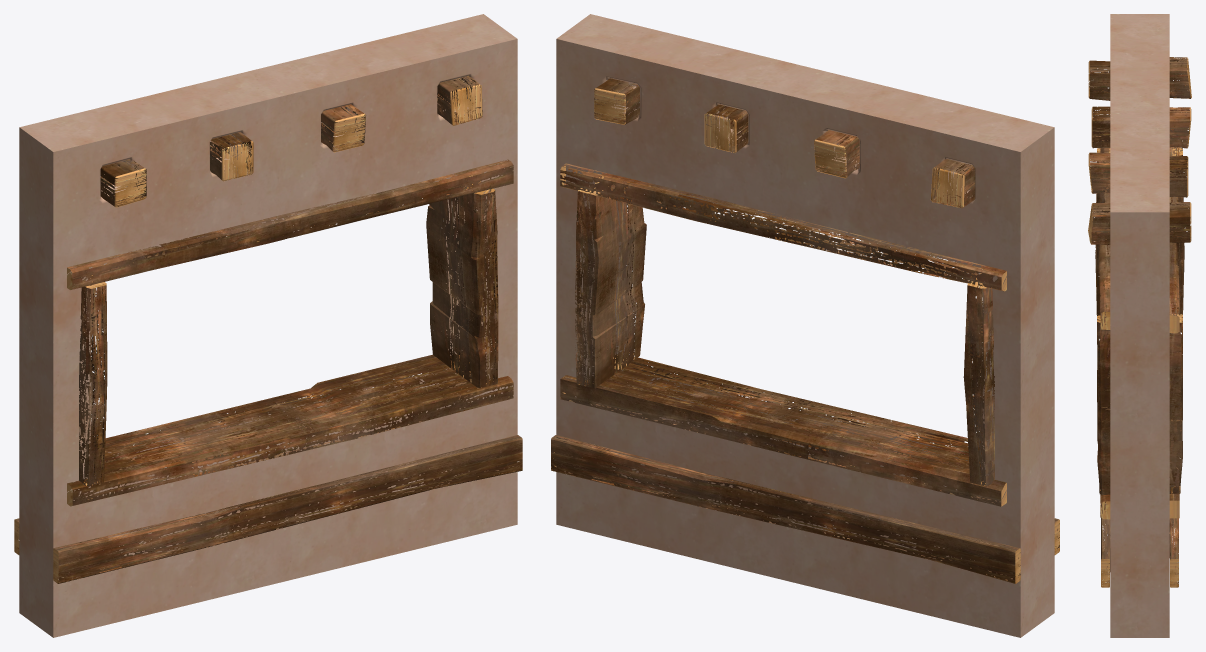
3 views of the same model, side by side, from view 1: azimuth 30°, elevation 25°; view 2: azimuth 150°, elevation 25°; view 3: azimuth 270°, elevation 25° (orthographic). The views are drawn at different scales.
Visible parts, largest first — view 1: SM_BB_T4_Wall_Windowframe_Double_LOD0; view 2: SM_BB_T4_Wall_Windowframe_Double_LOD0; view 3: SM_BB_T4_Wall_Windowframe_Double_LOD0.
Part boxes in pixels (x1,y1,x2,y2): SM_BB_T4_Wall_Windowframe_Double_LOD0: (14, 14, 522, 637); SM_BB_T4_Wall_Windowframe_Double_LOD0: (551, 14, 1059, 637); SM_BB_T4_Wall_Windowframe_Double_LOD0: (1088, 14, 1191, 637).
Size of the model in its own units: 3 by 3 by 0.6636.
2 materials, 2 textured.
